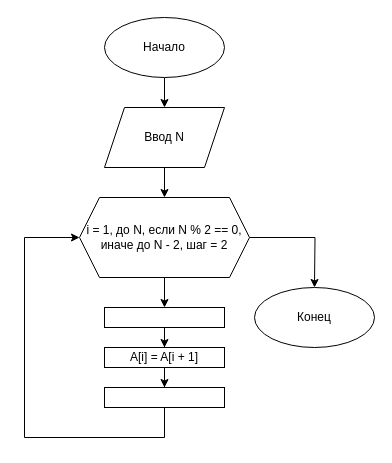
The diagram is 392 pixels wide and 463 high, and some of its shapes have lost their labels. The centre of each missing label's shape, as x and y in pixels:
A[i + 1] = temp: (164,397)
temp = A[i]: (164,317)
